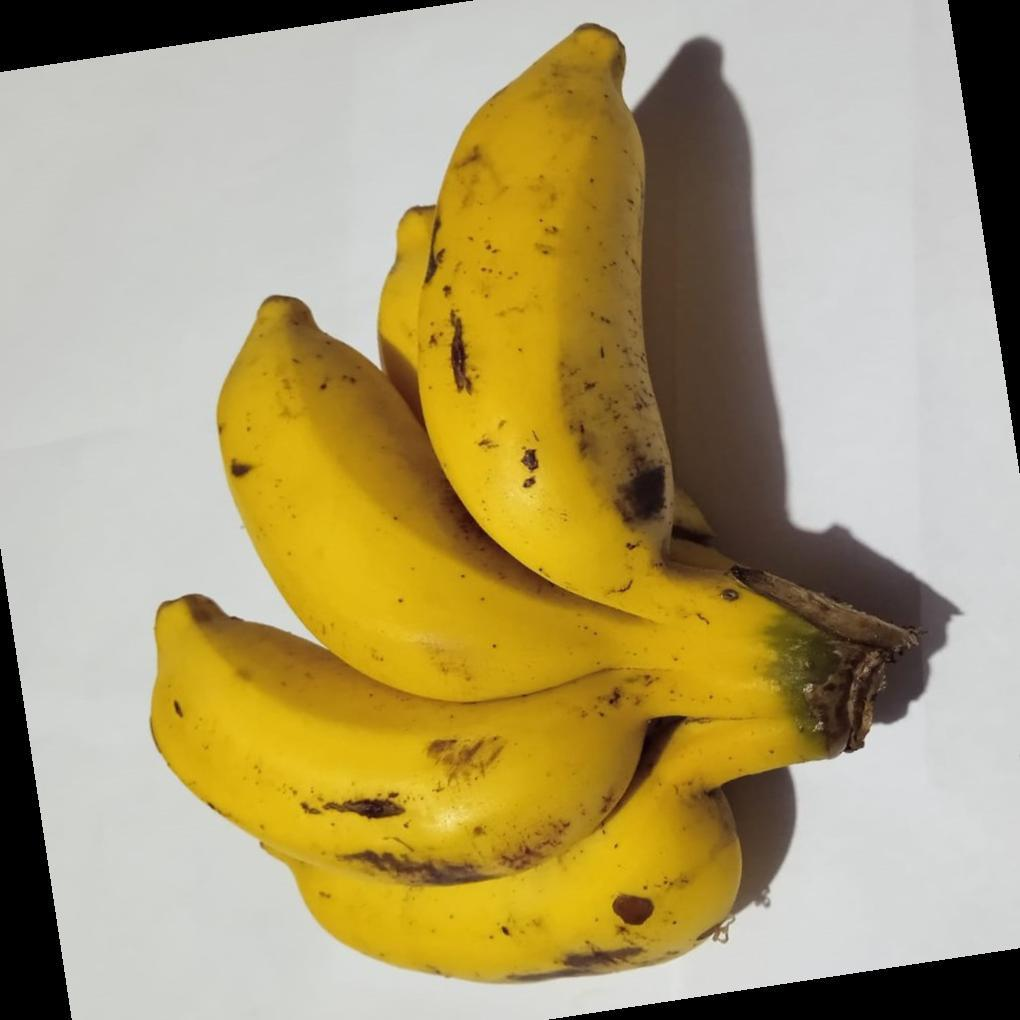Banana Ripe: (132, 33, 866, 1020), (179, 276, 747, 980), (433, 16, 712, 609)
